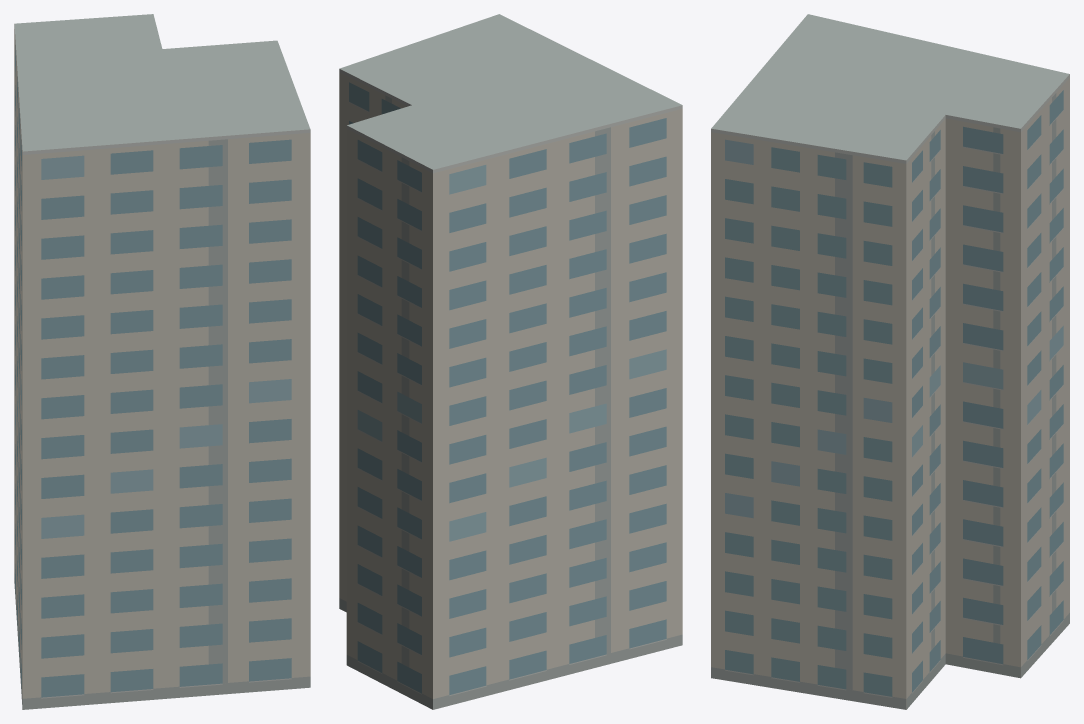
The model's file is residential-147ccbb6-a5ce-4fc4-b8b2-561129174e5c.glb.
The picture shows the model from 3 angles, left to right: view 1: azimuth 30°, elevation 25°; view 2: azimuth 150°, elevation 25°; view 3: azimuth 270°, elevation 25°; orthographic projection. The views are drawn at different scales.
Parts seen in each view (by area): view 1: residential-147ccbb6-a5ce-4fc4-b8b2-561129174e5c.tmp; view 2: residential-147ccbb6-a5ce-4fc4-b8b2-561129174e5c.tmp; view 3: residential-147ccbb6-a5ce-4fc4-b8b2-561129174e5c.tmp.
Part boxes in pixels (x1,y1,x2,y2): residential-147ccbb6-a5ce-4fc4-b8b2-561129174e5c.tmp: (14,14,310,709); residential-147ccbb6-a5ce-4fc4-b8b2-561129174e5c.tmp: (339,14,682,709); residential-147ccbb6-a5ce-4fc4-b8b2-561129174e5c.tmp: (711,14,1069,709).
Bounding box in the file's own units: 21.73 × 38 × 22.5.
